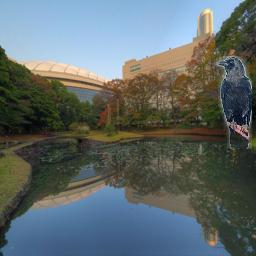Crow: (216, 57, 252, 150)
